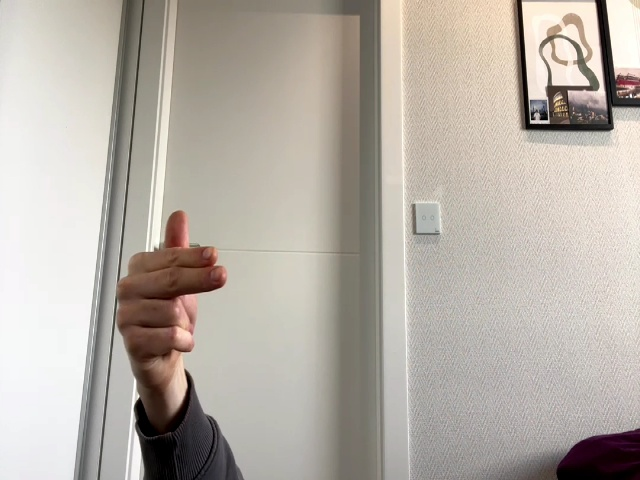N: (116, 210, 227, 359)
